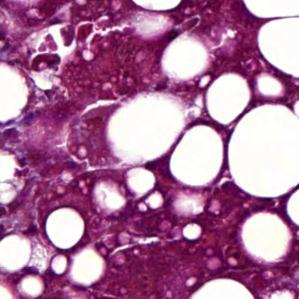steatosis: (170, 122, 225, 192), (41, 208, 91, 249)
